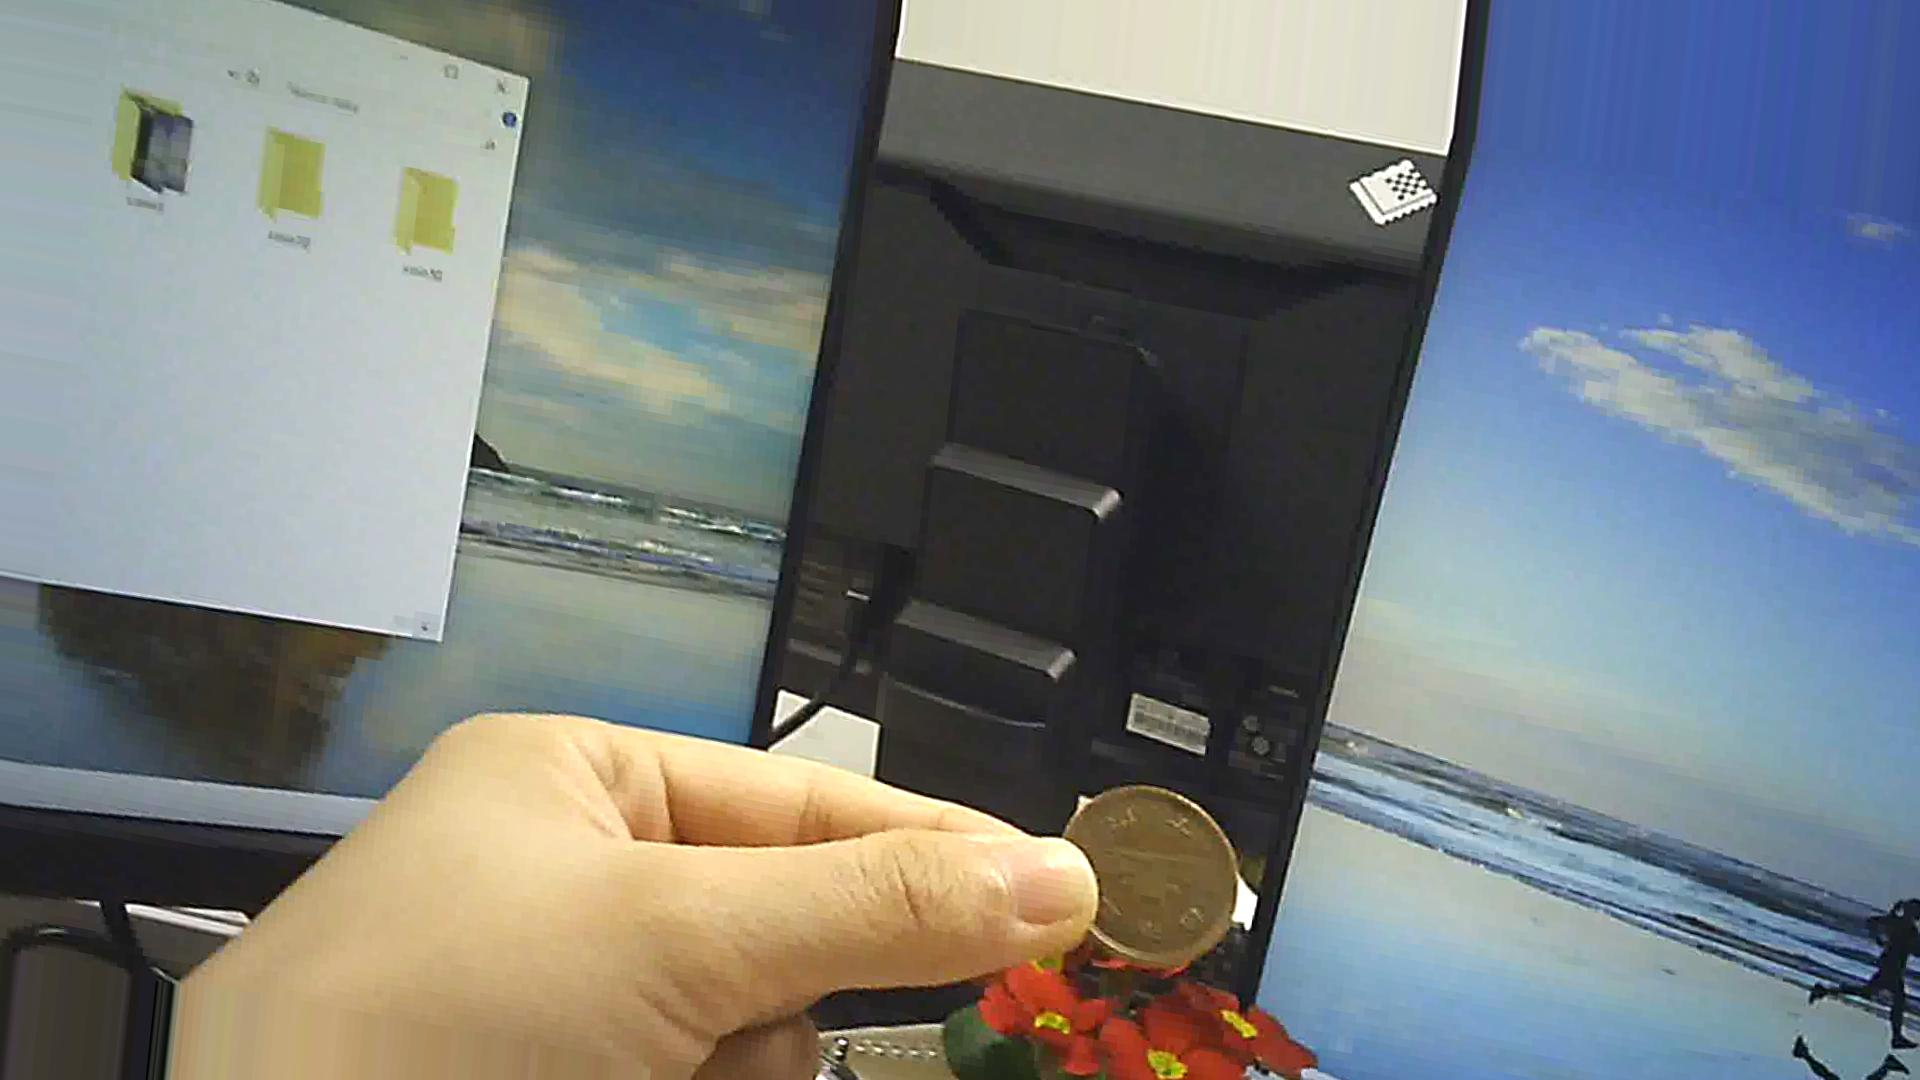10 Yen: (1056, 778, 1251, 964)
